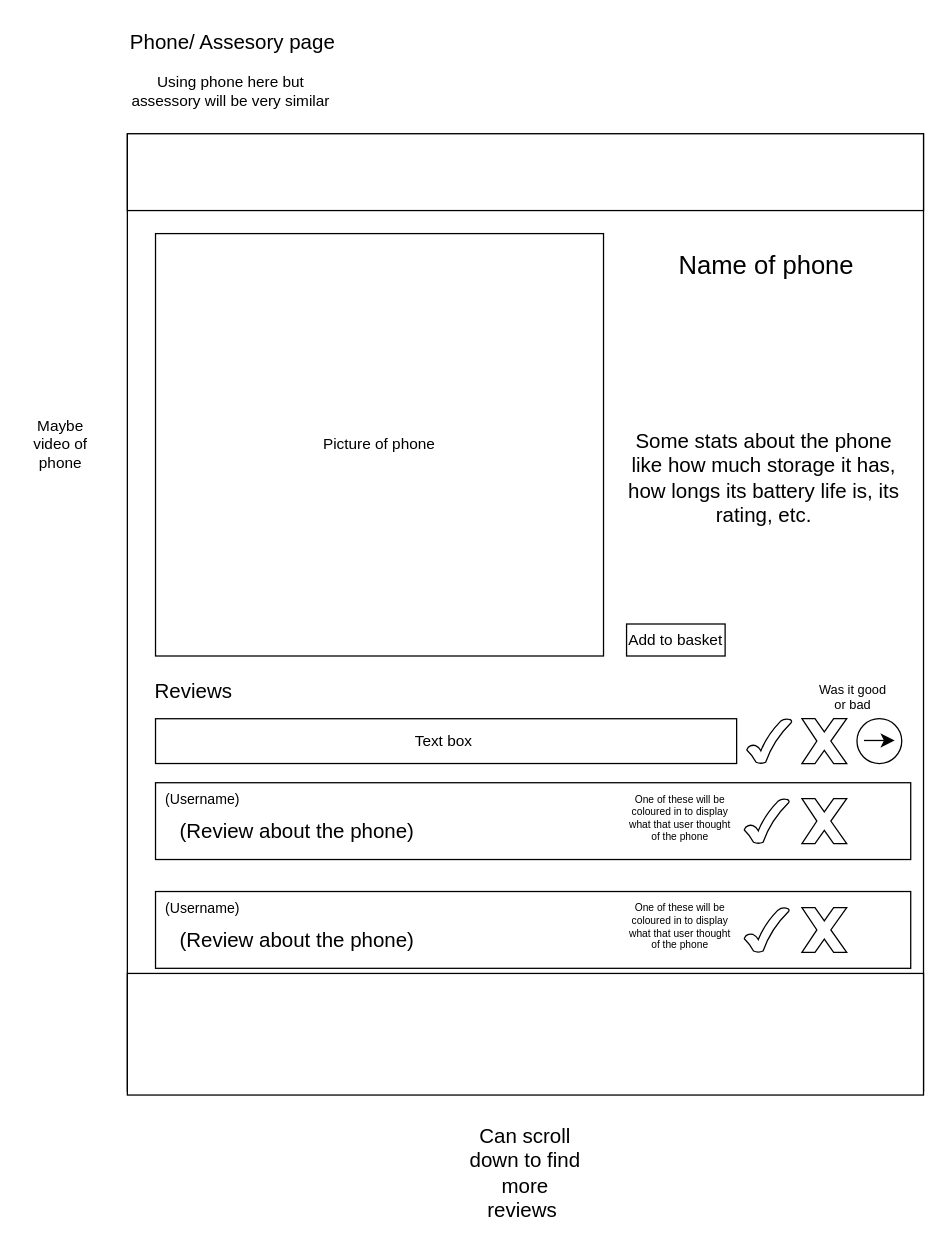
The diagram is 946 pixels wide and 1252 high, and some of its shapes have lost their labels. The shapes that lost their labels are listed below. From the top down, each one's box as (x1, y1, x2, y2) in pixels, then its label:
(126, 132, 924, 211): Navbar (Full on homepage)
(126, 972, 924, 1095): Footer
